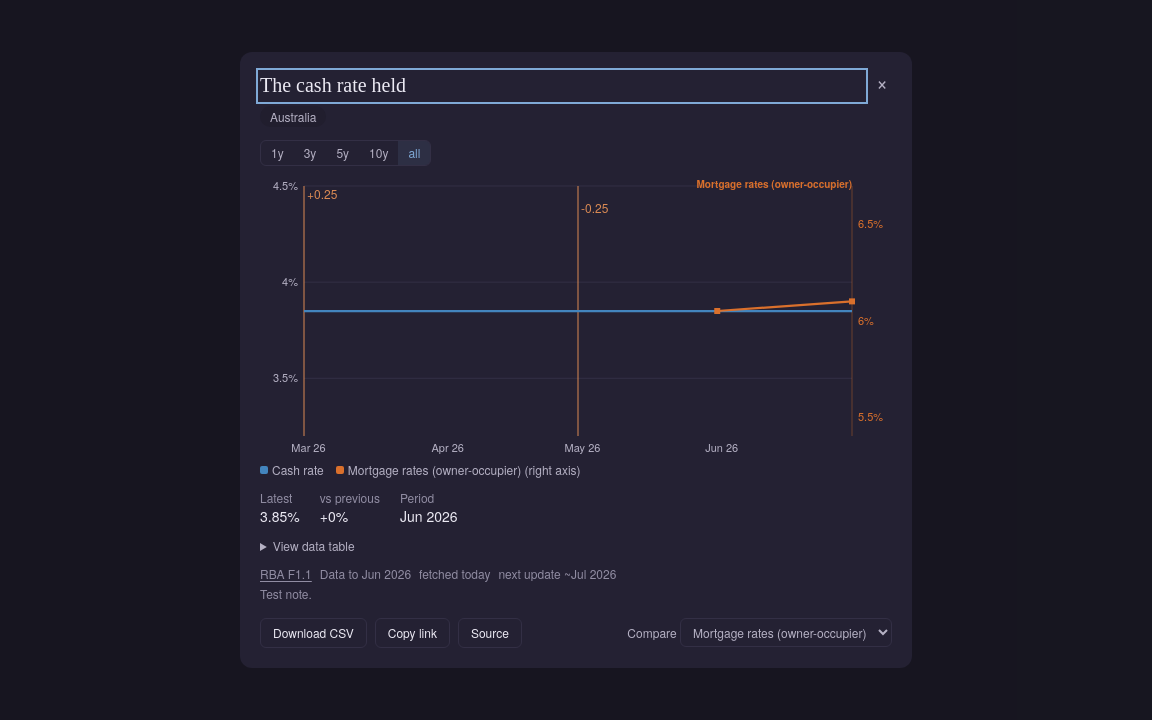
Test: a compare line from the SAME region as the primary stays bare (no suffix)
Step 1. Click the heading "View data table" → (314,545), box [273,537,355,554]
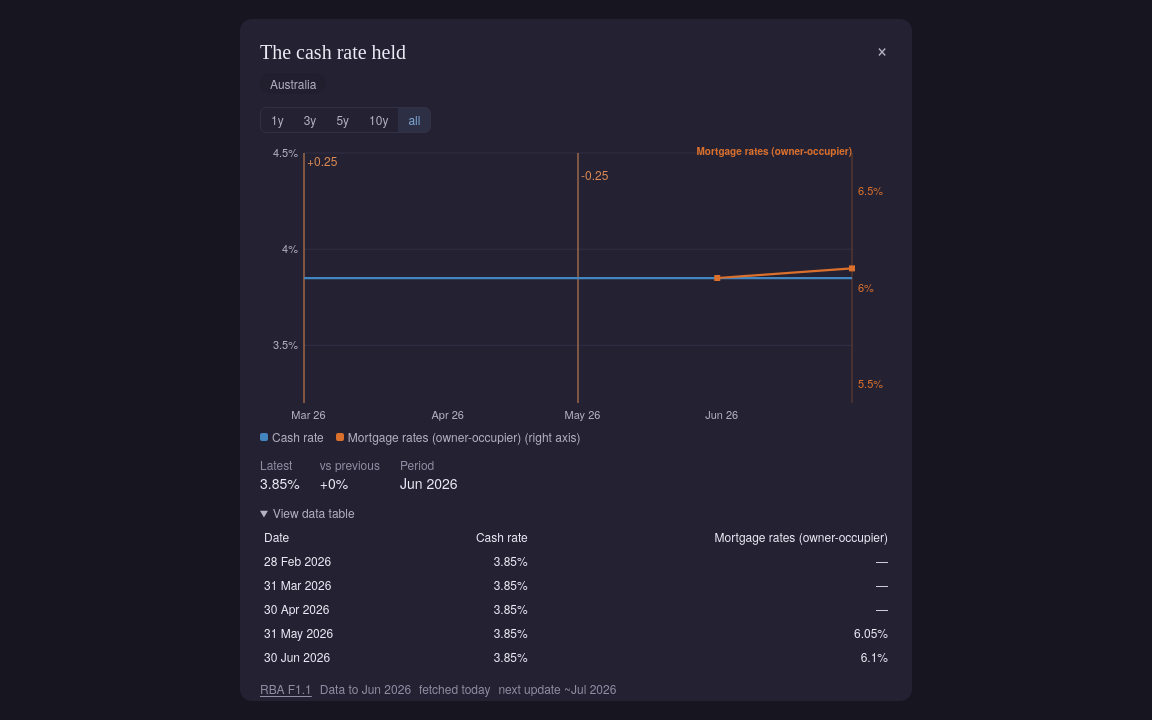
Check: the column heading "Mortgage rates (owner-occupier)" is shown, box [532,524,892,548]
